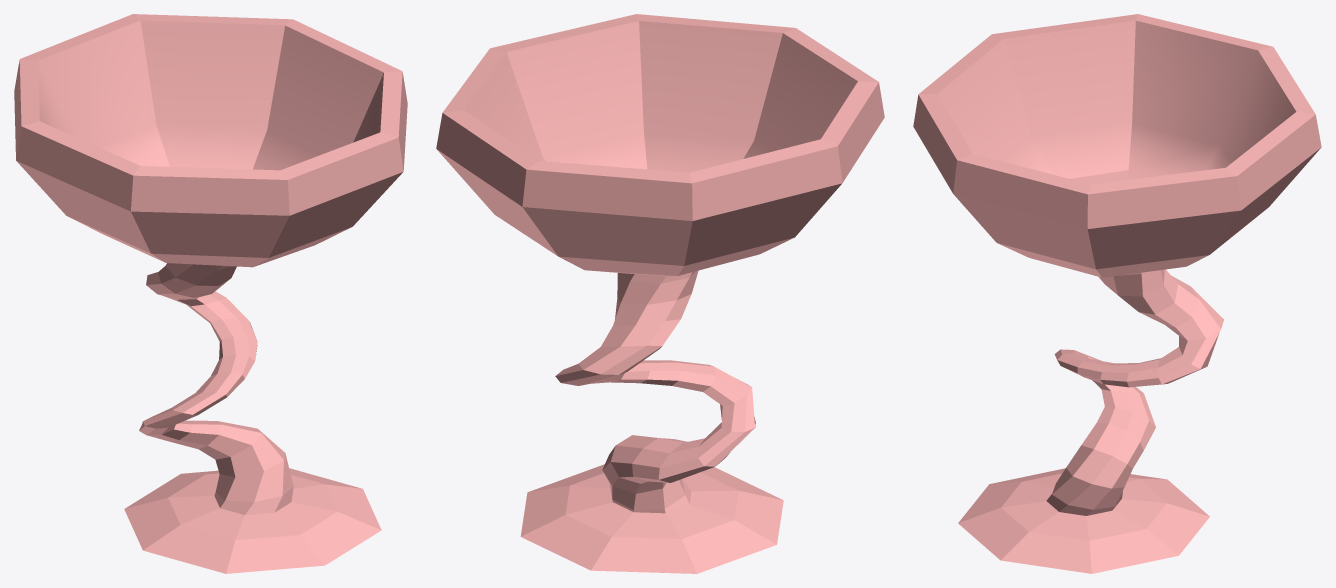
The model's file is SM_Chalice_04.fbx.
The picture shows the model from 3 angles, left to right: view 1: azimuth 30°, elevation 25°; view 2: azimuth 150°, elevation 25°; view 3: azimuth 270°, elevation 25°; orthographic projection. The views are drawn at different scales.
Parts seen in each view (by area): view 1: Challic04; view 2: Challic04; view 3: Challic04.
Part boxes in pixels (x1=…): Challic04: x1=14, y1=14, x2=407, y2=573; Challic04: x1=436, y1=14, x2=884, y2=573; Challic04: x1=913, y1=14, x2=1321, y2=573.
Size of the model in its own units: 42.19 by 46.85 by 42.17.
